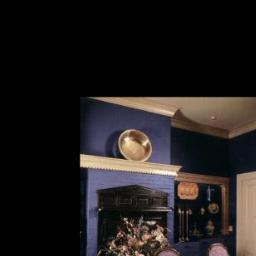Puerta: (238, 177, 256, 256)
